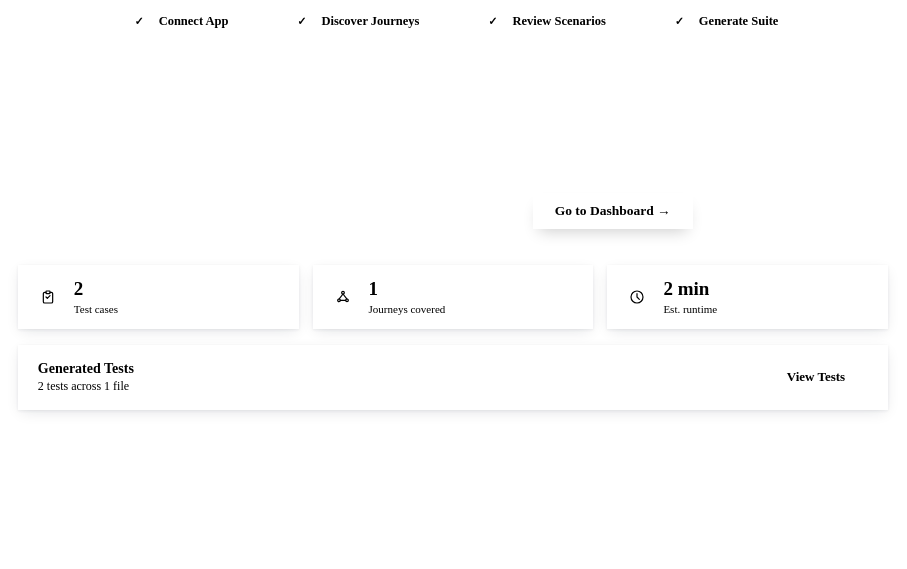
Test: TestSuiteResults › shows the completed summary and stats, with the file list and its scenarios collapsed by default
Expected: the text "Generated Tests" is shown, [38,361,134,377]
Expected: the text "2 tests across 1 file" is shown, [38,379,134,394]
Click the button "Generated Tests 2 tests across 1 file View Tests" at (86, 368), box [18,345,888,410]
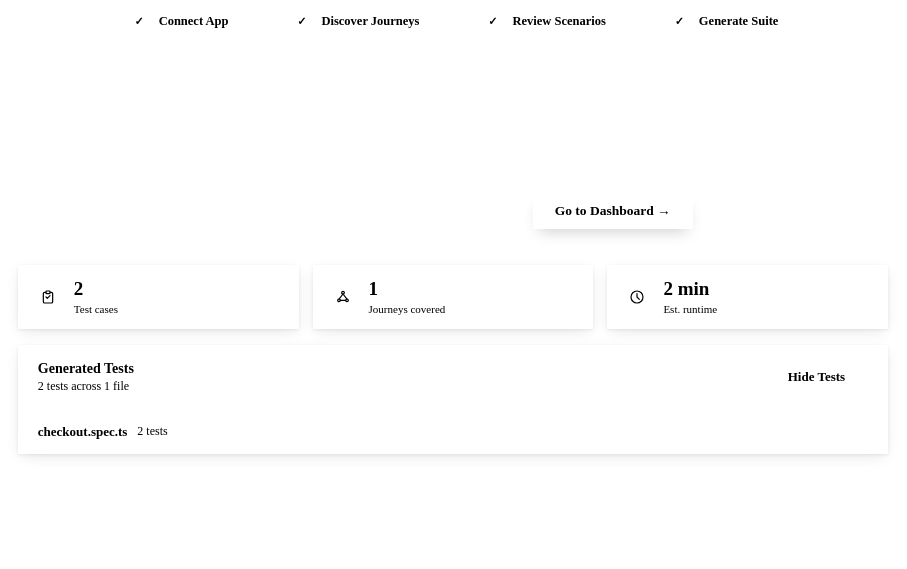
Expected: the text "Guest checkout" is not shown
Now the text "checkout.spec.ts" is shown, box [38,424,127,440]
Click the button "checkout.spec.ts 2 tests" at (83, 431), box [18,410,888,454]
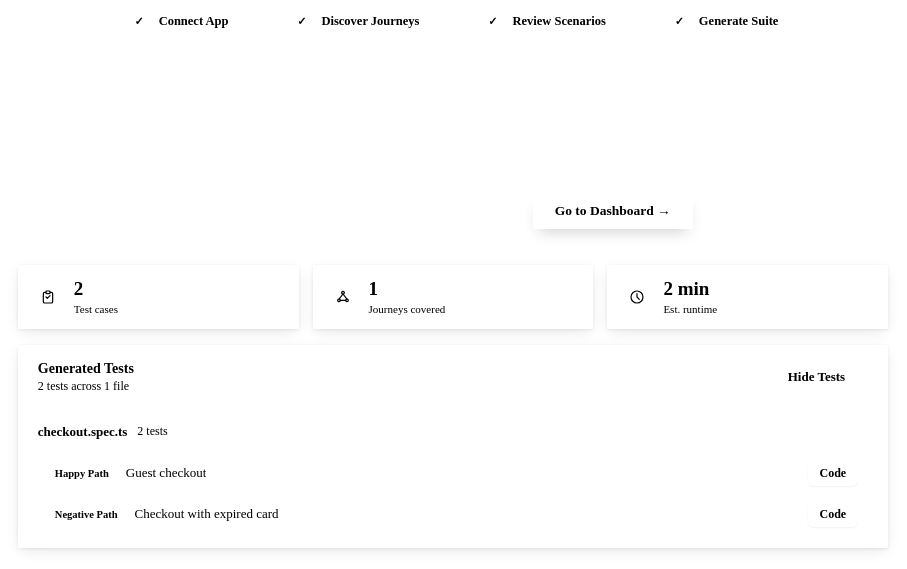
Now the text "Guest checkout" is shown, box [126,465,206,481]
Now the text "Happy Path" is shown, box [55,468,109,479]
Now the text "Negative Path" is shown, box [55,509,118,520]
